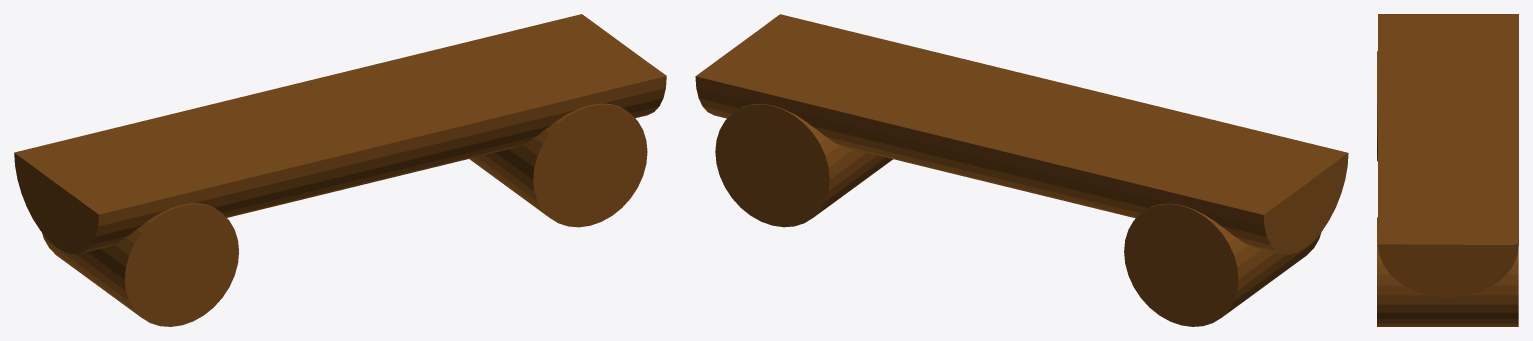
File: lavicka.fbx
3 renders of one model, left to right at view 1: azimuth 30°, elevation 25°; view 2: azimuth 150°, elevation 25°; view 3: azimuth 270°, elevation 25°, orthographic. The views are drawn at different scales.
Visible parts, largest first — view 1: Cylinder.002; view 2: Cylinder.002; view 3: Cylinder.002.
Part boxes in pixels (left/top/right/bottom): Cylinder.002: left=14, top=14, right=666, bottom=326; Cylinder.002: left=695, top=14, right=1348, bottom=326; Cylinder.002: left=1377, top=14, right=1518, bottom=326.
Size of the model in its own units: 695 by 153 by 181.
